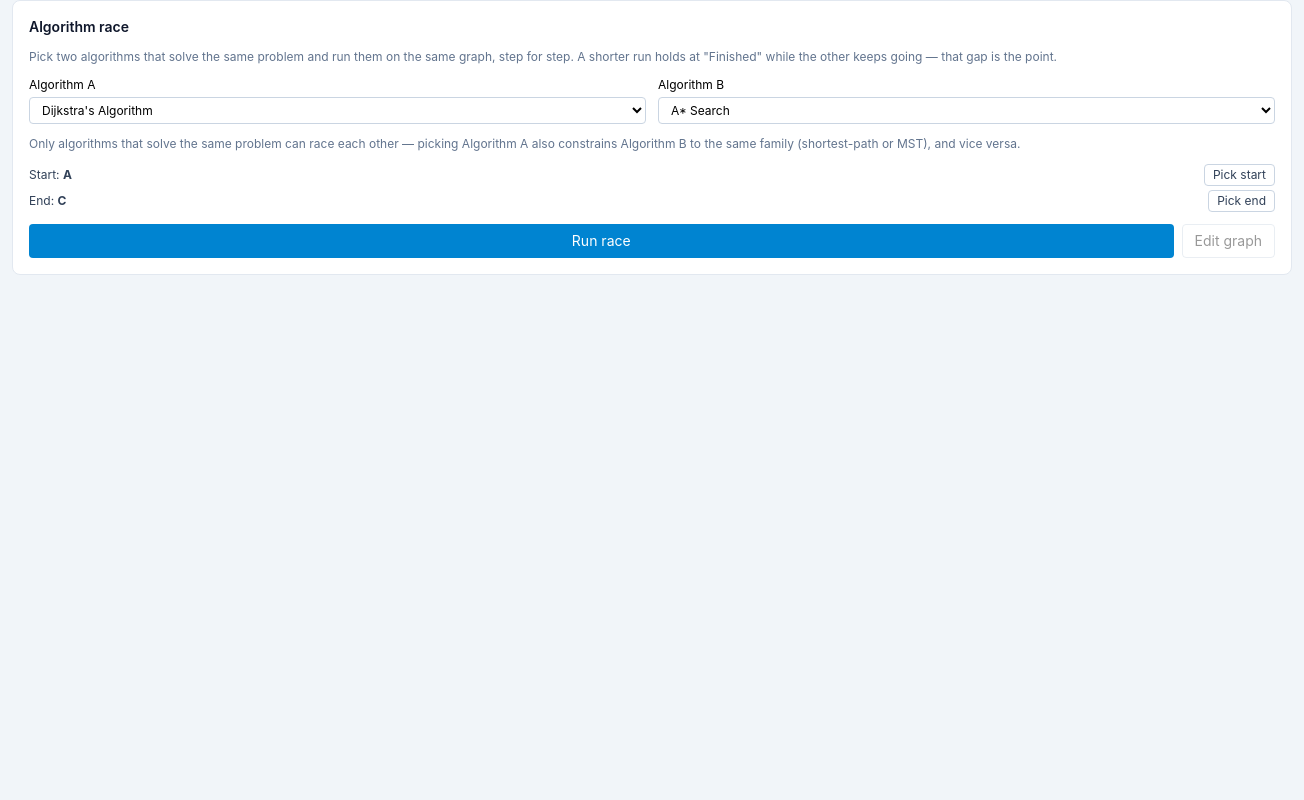
RacePanel › requires start and end for a shortest-path race, runs and shows both graphs
Click the button "Run race": point(601, 241) [29,224,1174,258]
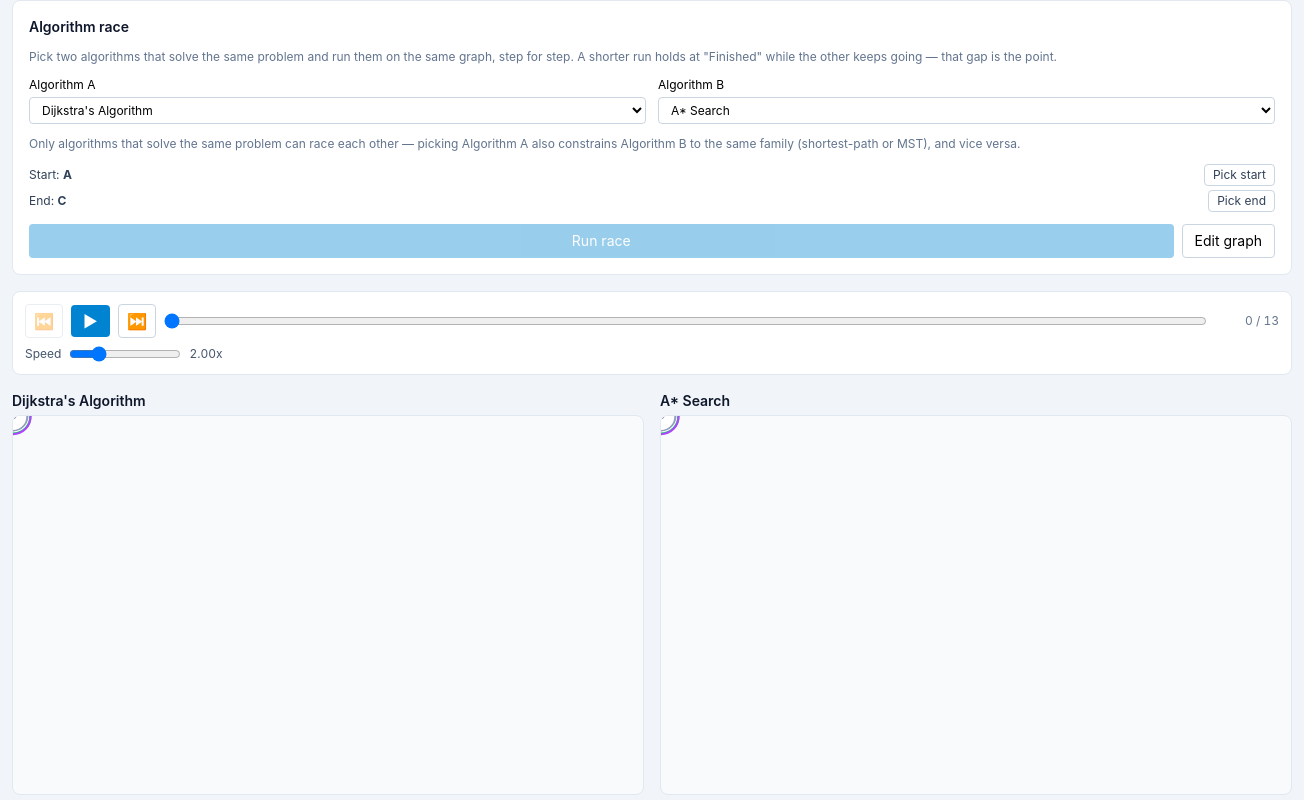
Check: the number of pictures named "Algorithm race graph view" is 2, box [12,415,644,795]; [660,415,1292,795]
